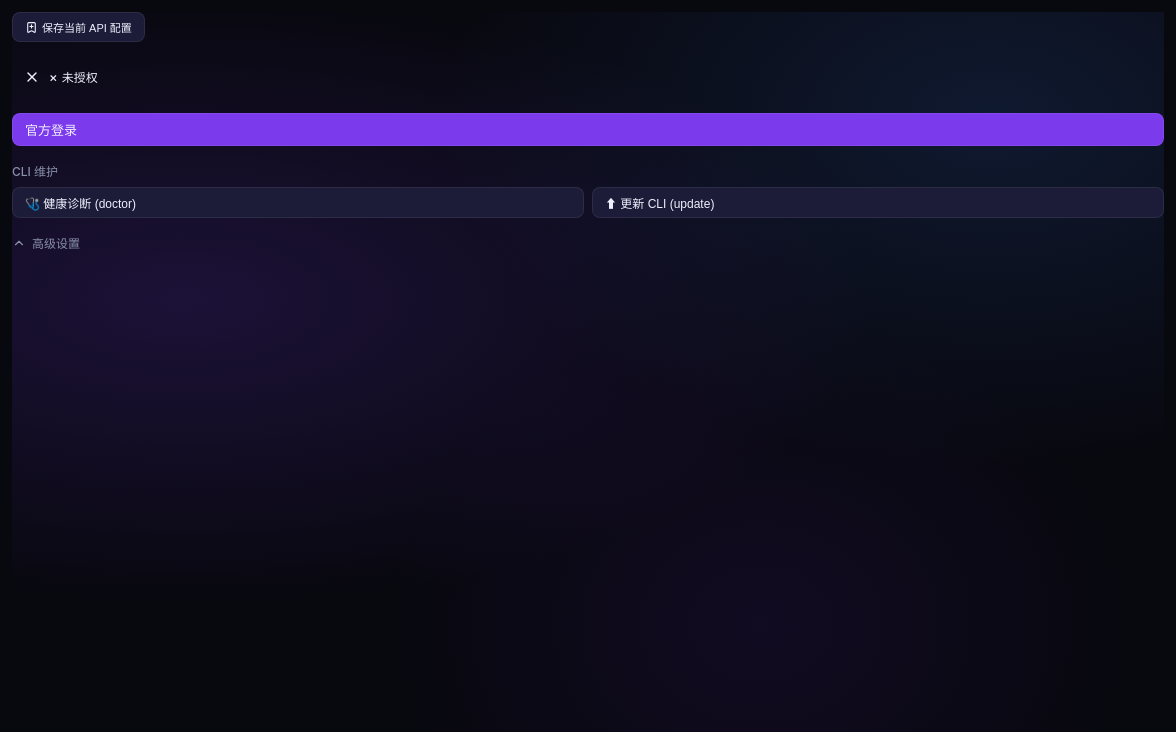
Scenario: ConnectionTab - userEvent 交互 › 点击"保存当前 API 配置"后展开配置文件名称输入框
Step 1. Click the button "保存当前 API 配置" → (78, 27), box [12,12,145,42]
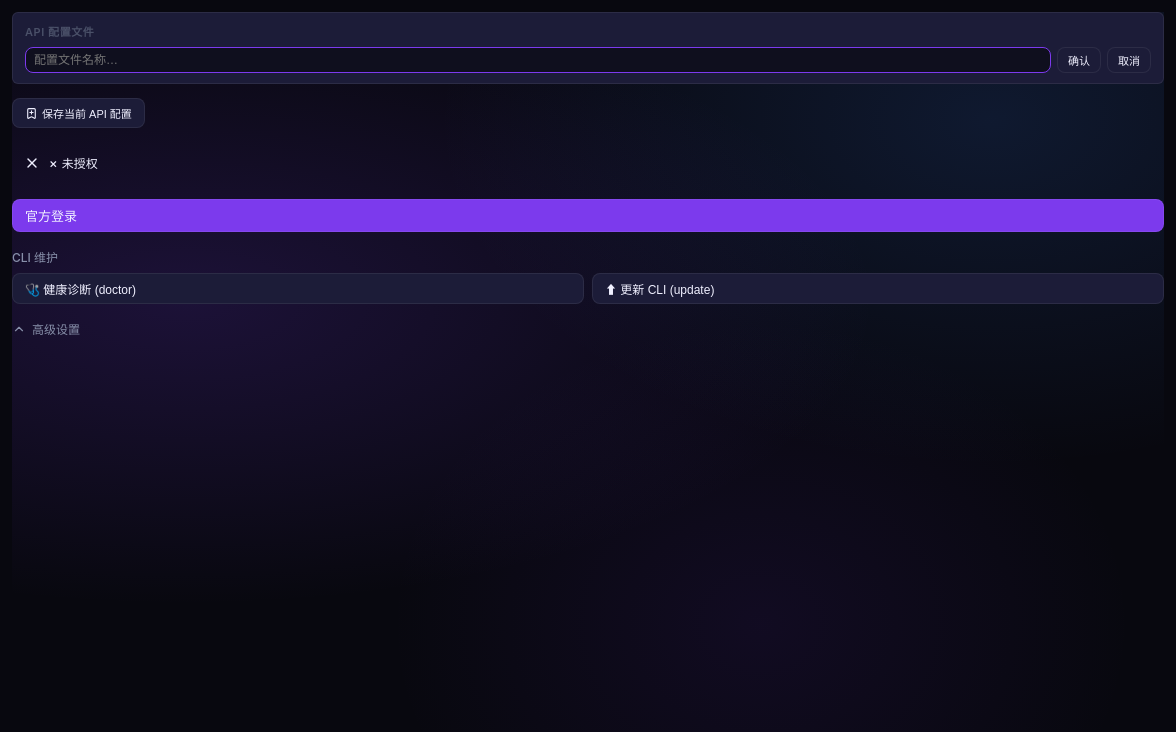
expect the field with placeholder "配置文件名称…" is shown: met, box [25,47,1051,73]
